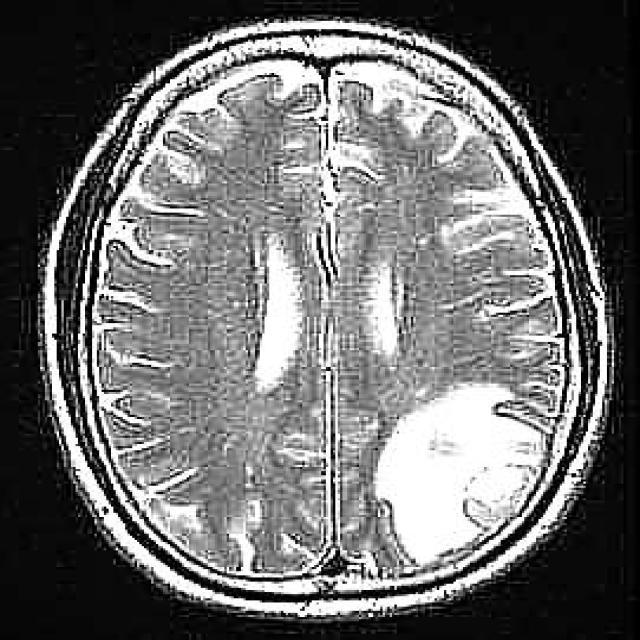brain tumor: (375, 386, 550, 565)
